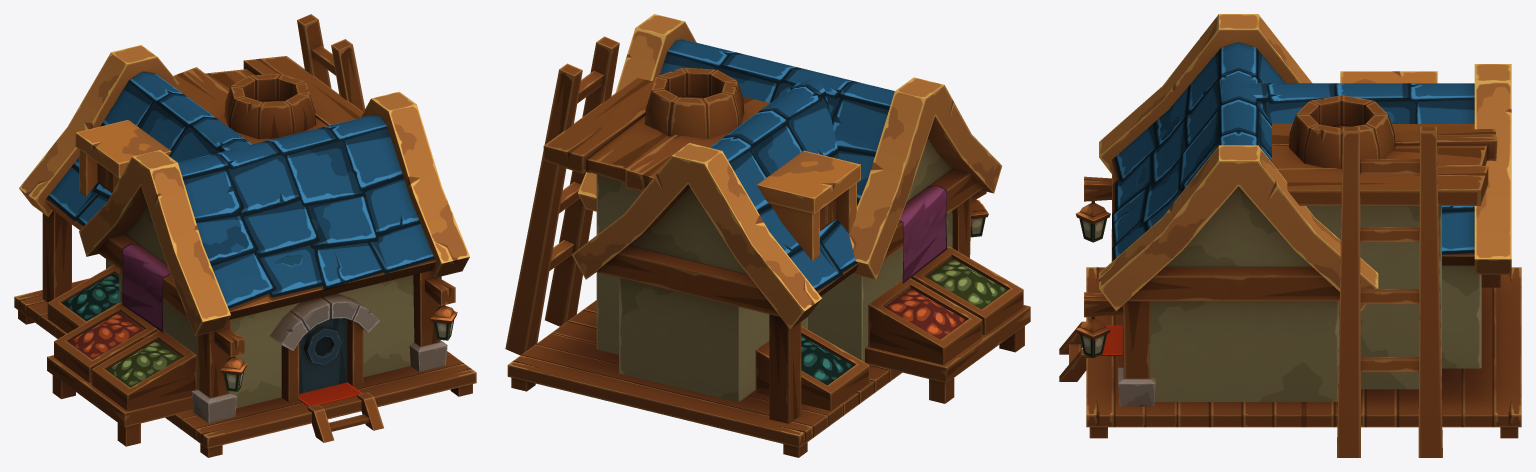
File: building_07.FBX
3 views of the same model, side by side, from view 1: azimuth 30°, elevation 25°; view 2: azimuth 150°, elevation 25°; view 3: azimuth 270°, elevation 25° (orthographic). The views are drawn at different scales.
Parts seen in each view (by area): view 1: Box003; view 2: Box003; view 3: Box003.
Boxes of the visible parts, <box> form: Box003: <box>14,14,476,457</box>; Box003: <box>505,14,1030,457</box>; Box003: <box>1059,14,1521,457</box>.
Bounding box in the file's own units: 710 × 513 × 706.
